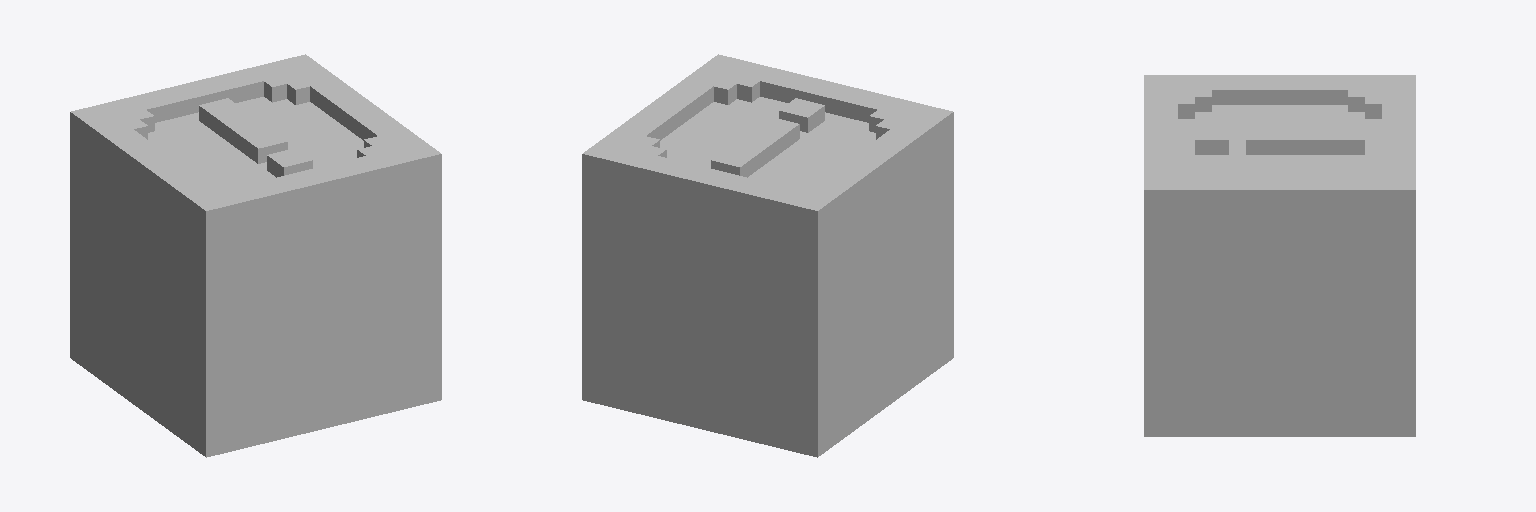
Rendered from Floor Spawner.obj.
3 renders of one model, left to right at view 1: azimuth 30°, elevation 25°; view 2: azimuth 150°, elevation 25°; view 3: azimuth 270°, elevation 25°, orthographic.
Visible parts, largest first — view 1: object 1; view 2: object 1; view 3: object 1.
Part boxes in pixels (x1,y1,x2,y2): object 1: (70, 54, 441, 457); object 1: (582, 54, 953, 457); object 1: (1144, 75, 1415, 436).
Size of the model in its own units: 1.6 by 1.6 by 1.6.